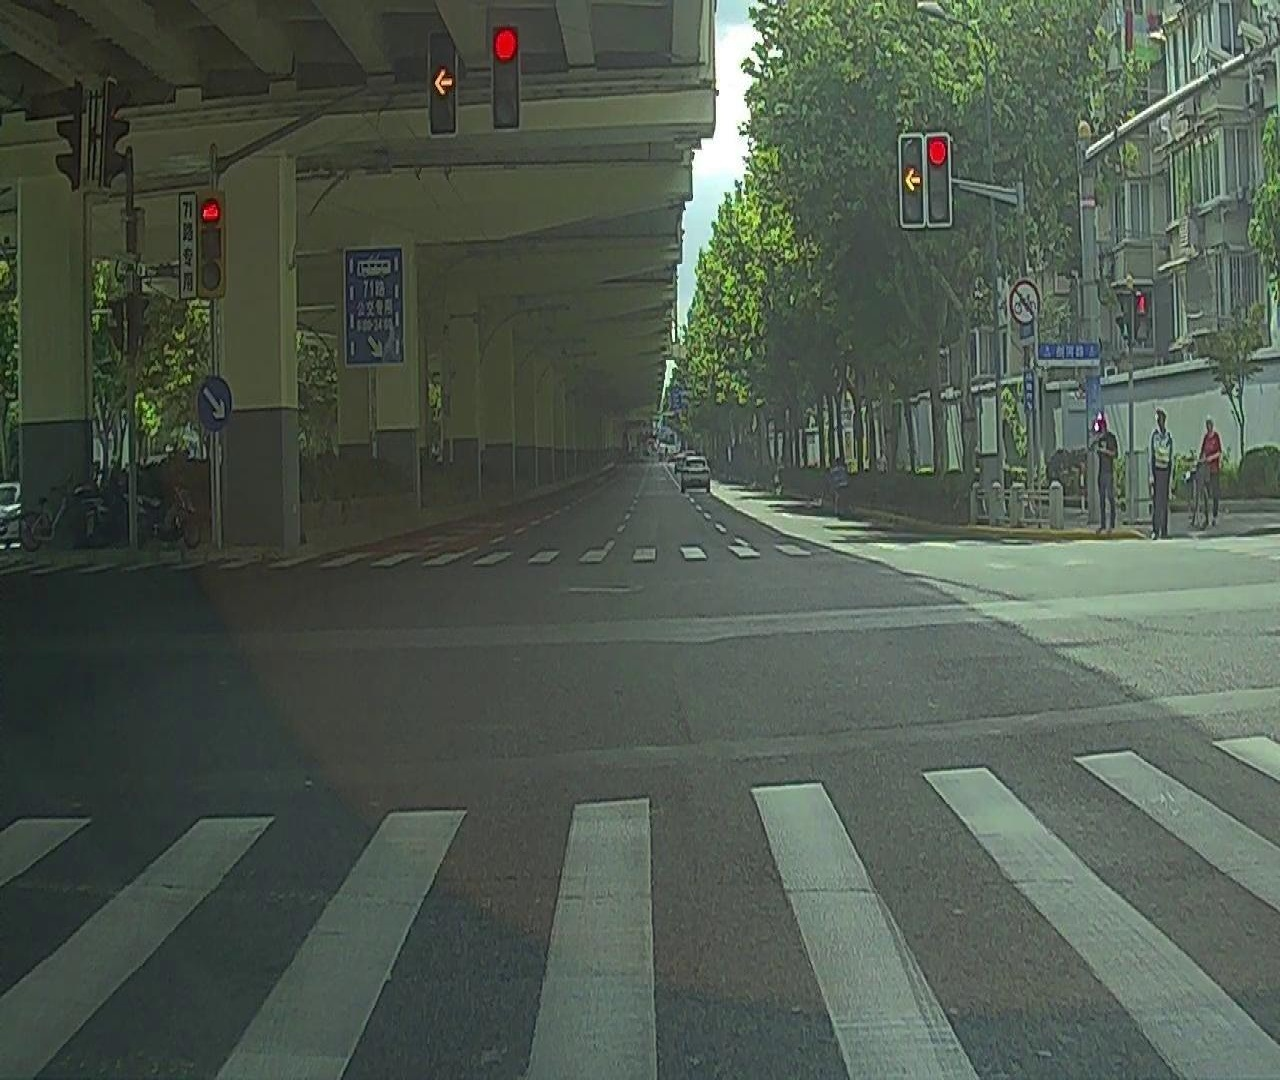red: (493, 25, 519, 126), (925, 132, 950, 225)
yellow: (426, 36, 456, 138), (902, 133, 924, 225)
